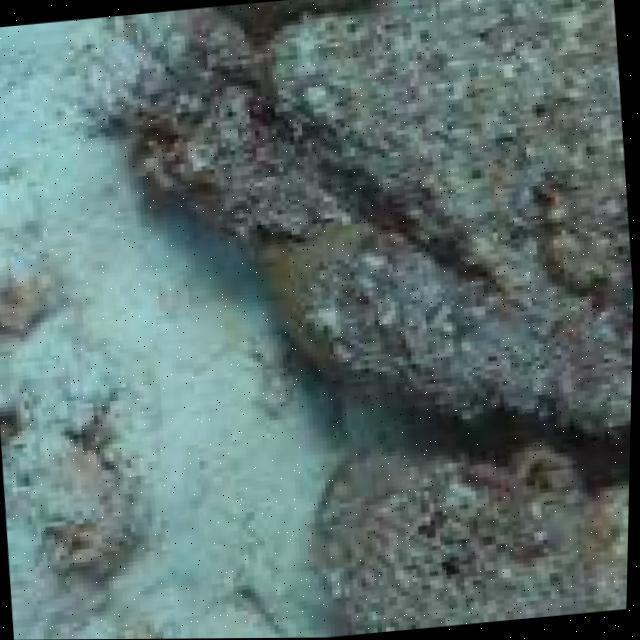Dead Coral: (127, 0, 640, 639)
